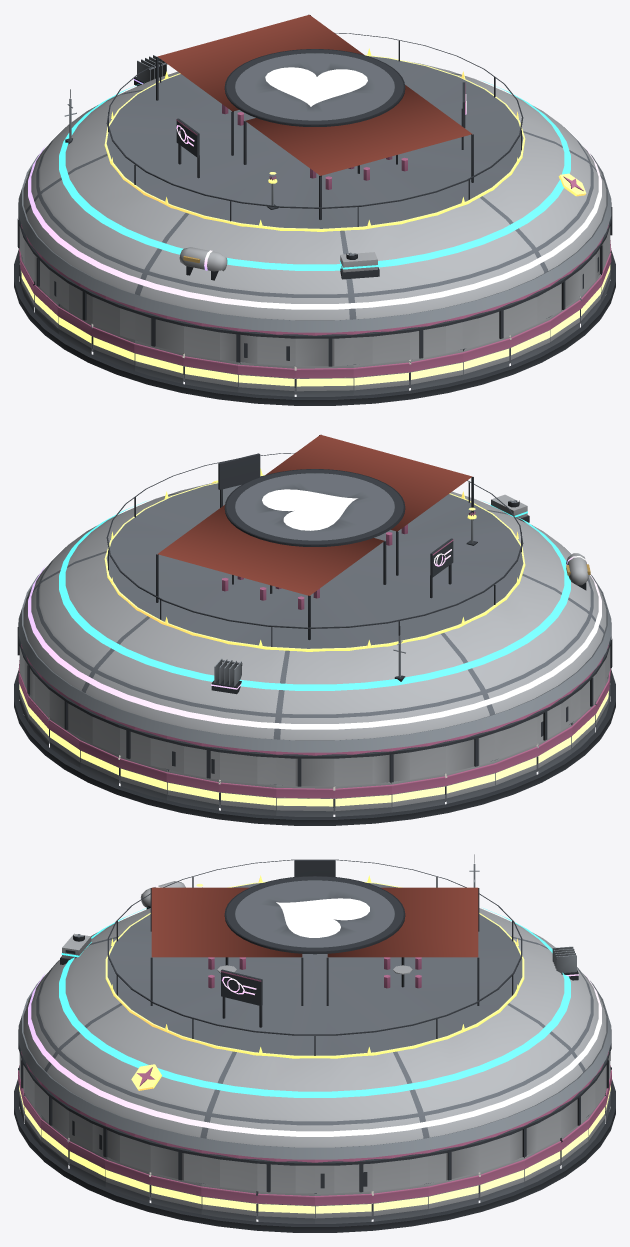
File: cantina_xl_far.glb
The picture shows the model from 3 angles, top to bottom: view 1: azimuth 30°, elevation 25°; view 2: azimuth 150°, elevation 25°; view 3: azimuth 270°, elevation 25°; orthographic projection.
Visible parts, largest first — view 1: Roof, Base, L2, L4, L3, L5; view 2: Roof, Base, L2, L4, L3, L5; view 3: Roof, Base, L2, L3, L4, L5.
Part boxes in pixels (box(x1,y1,x2,y2)): Roof: box(17, 14, 612, 366); Base: box(14, 240, 615, 405); L2: box(18, 89, 611, 332); L4: box(28, 55, 601, 309); L3: box(59, 81, 570, 279); L5: box(104, 48, 586, 231); Roof: box(17, 434, 612, 786); Base: box(14, 660, 615, 825); L2: box(18, 567, 611, 752); L4: box(28, 553, 601, 729); L3: box(59, 494, 570, 690); L5: box(104, 468, 525, 651); Roof: box(18, 859, 611, 1193); Base: box(14, 1065, 615, 1232); L2: box(18, 854, 611, 1159); L3: box(59, 908, 570, 1097); L4: box(28, 881, 601, 1136); L5: box(105, 875, 524, 1090).
Bounding box in the file's own units: 23.15 × 8.14 × 23.15.
